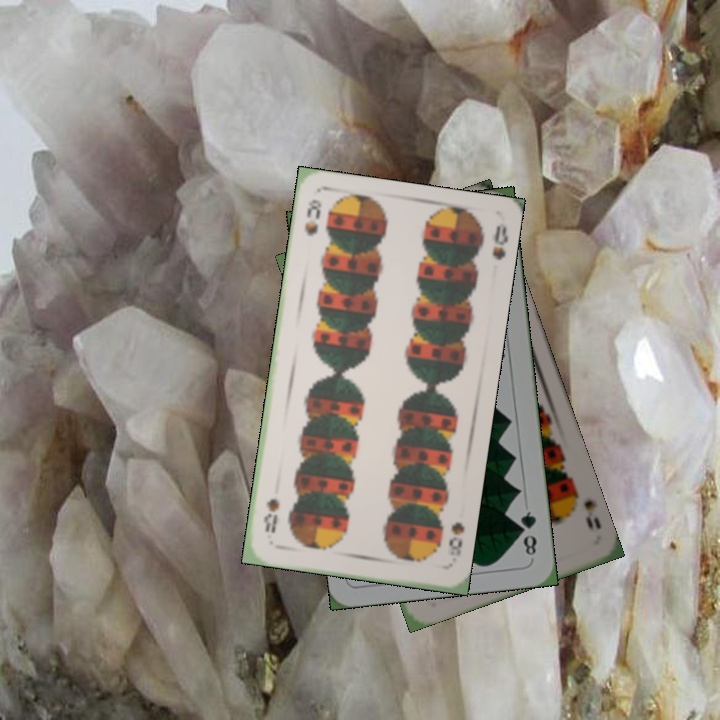G8: (515, 507, 540, 558)
S8: (300, 195, 324, 239), (445, 518, 468, 559)
S9: (570, 483, 604, 532)
